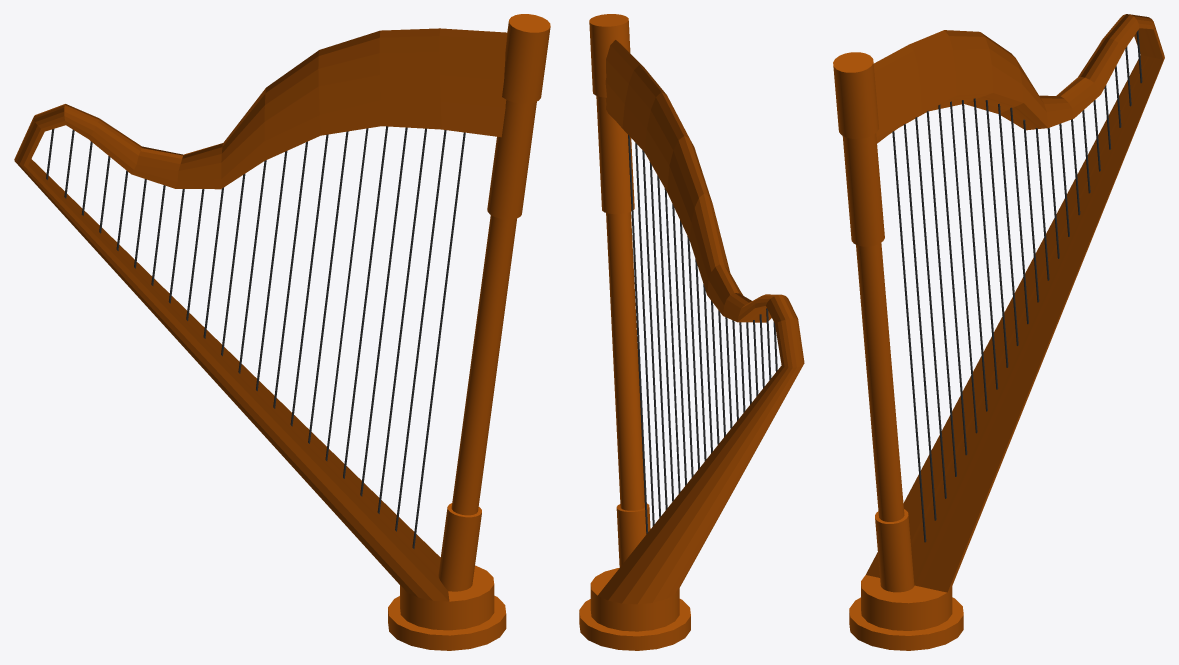
Rendered from 7f9cfca8-0ad3-4626-b67c-9f44dc70e160.glb.
3 renders of one model, left to right at view 1: azimuth 30°, elevation 25°; view 2: azimuth 150°, elevation 25°; view 3: azimuth 270°, elevation 25°, orthographic. The views are drawn at different scales.
Parts seen in each view (by area): view 1: Cylinder002, Cylinder001, Cylinder005, Cylinder006, Cylinder004, Cylinder003, Cylinder007, Cylinder008, Cylinder009, Cylinder010, Cylinder011, Cylinder012 (+3 smaller); view 2: Cylinder002, Cylinder001, Cylinder005, Cylinder004, Cylinder006, Cylinder003, Cylinder007, Cylinder008, Cylinder009, Cylinder010, Cylinder011, Cylinder012 (+6 smaller); view 3: Cylinder002, Cylinder001, Cylinder005, Cylinder006, Cylinder004, Cylinder003, Cylinder007, Cylinder008, Cylinder009, Cylinder010, Cylinder011, Cylinder012 (+6 smaller).
Part boxes in pixels (x1=…): Cylinder002: x1=14, y1=28, x2=507, y2=630; Cylinder001: x1=451, y1=215, x2=516, y2=515; Cylinder005: x1=487, y1=100, x2=536, y2=219; Cylinder006: x1=502, y1=14, x2=550, y2=103; Cylinder004: x1=388, y1=595, x2=506, y2=650; Cylinder003: x1=438, y1=503, x2=481, y2=591; Cylinder007: x1=412, y1=132, x2=465, y2=548; Cylinder008: x1=395, y1=130, x2=446, y2=531; Cylinder009: x1=377, y1=128, x2=426, y2=513; Cylinder010: x1=360, y1=127, x2=407, y2=496; Cylinder011: x1=343, y1=126, x2=388, y2=478; Cylinder012: x1=325, y1=128, x2=368, y2=461; Cylinder002: x1=590, y1=40, x2=804, y2=631; Cylinder001: x1=606, y1=212, x2=644, y2=510; Cylinder005: x1=596, y1=96, x2=634, y2=214; Cylinder004: x1=579, y1=599, x2=690, y2=650; Cylinder006: x1=589, y1=14, x2=630, y2=97; Cylinder003: x1=616, y1=503, x2=650, y2=567; Cylinder007: x1=628, y1=135, x2=648, y2=534; Cylinder008: x1=635, y1=143, x2=654, y2=526; Cylinder009: x1=642, y1=150, x2=660, y2=517; Cylinder010: x1=649, y1=162, x2=667, y2=509; Cylinder011: x1=657, y1=175, x2=673, y2=501; Cylinder012: x1=664, y1=188, x2=680, y2=493; Cylinder002: x1=861, y1=14, x2=1164, y2=630; Cylinder001: x1=856, y1=243, x2=904, y2=521; Cylinder005: x1=842, y1=133, x2=884, y2=246; Cylinder006: x1=833, y1=52, x2=878, y2=138; Cylinder004: x1=849, y1=597, x2=963, y2=650; Cylinder003: x1=875, y1=509, x2=914, y2=592; Cylinder007: x1=892, y1=131, x2=926, y2=542; Cylinder008: x1=904, y1=124, x2=936, y2=520; Cylinder009: x1=915, y1=117, x2=946, y2=498; Cylinder010: x1=926, y1=111, x2=956, y2=476; Cylinder011: x1=938, y1=104, x2=967, y2=455; Cylinder012: x1=950, y1=101, x2=977, y2=433.
Bounding box in the file's own units: 293131 × 454037 × 230168.
